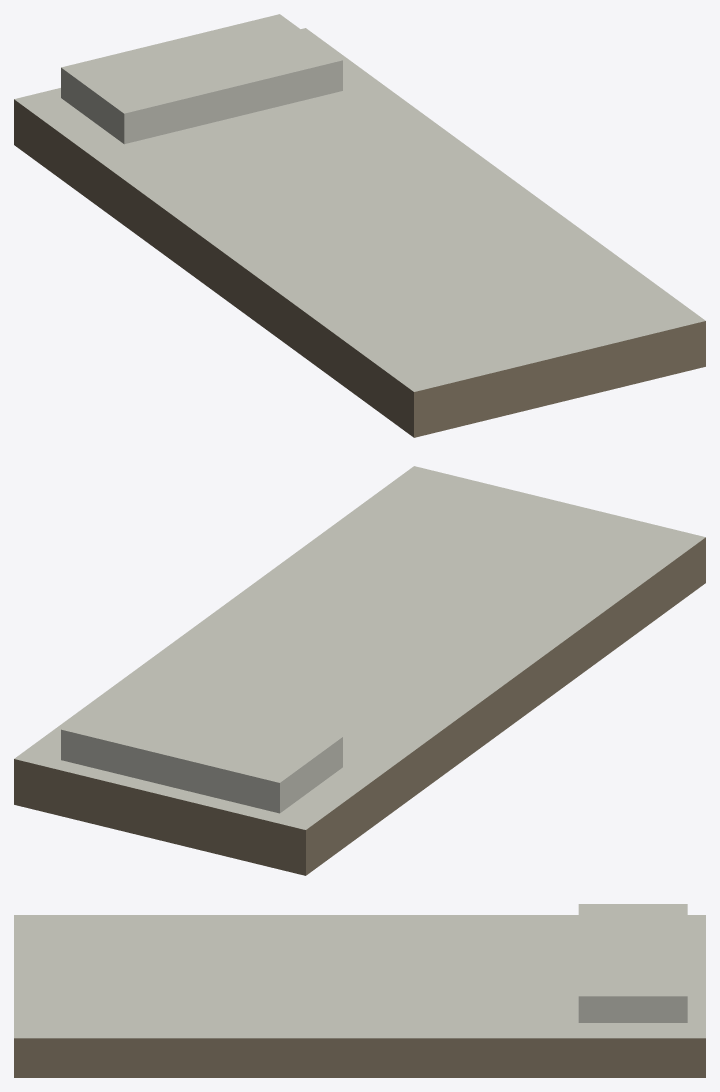
The model's file is prop_mattress_floor.glb.
3 views of the same model, one above another, from view 1: azimuth 30°, elevation 25°; view 2: azimuth 150°, elevation 25°; view 3: azimuth 270°, elevation 25° (orthographic). The views are drawn at different scales.
Parts seen in each view (by area): view 1: prop_mattress_floor-col; view 2: prop_mattress_floor-col; view 3: prop_mattress_floor-col.
Part boxes in pixels (box(x1,y1,x2,y2)): prop_mattress_floor-col: box(14, 14, 705, 437); prop_mattress_floor-col: box(14, 466, 705, 875); prop_mattress_floor-col: box(14, 904, 705, 1077).
Bounding box in the file's own units: 0.8 × 0.2 × 1.9.
